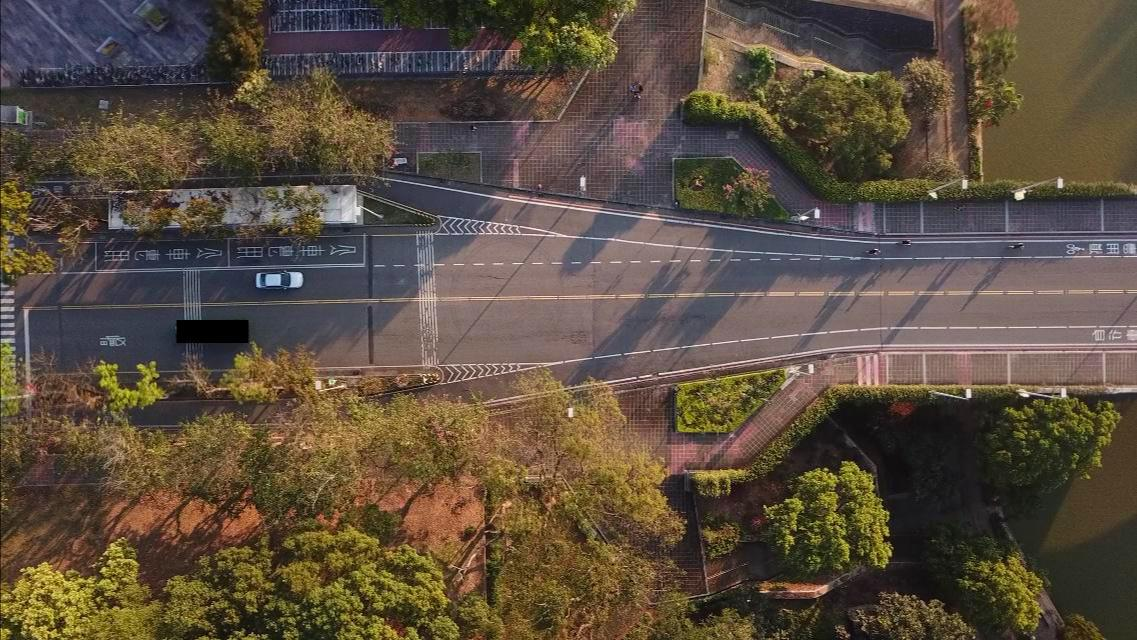vehicle: (254, 270, 303, 290)
